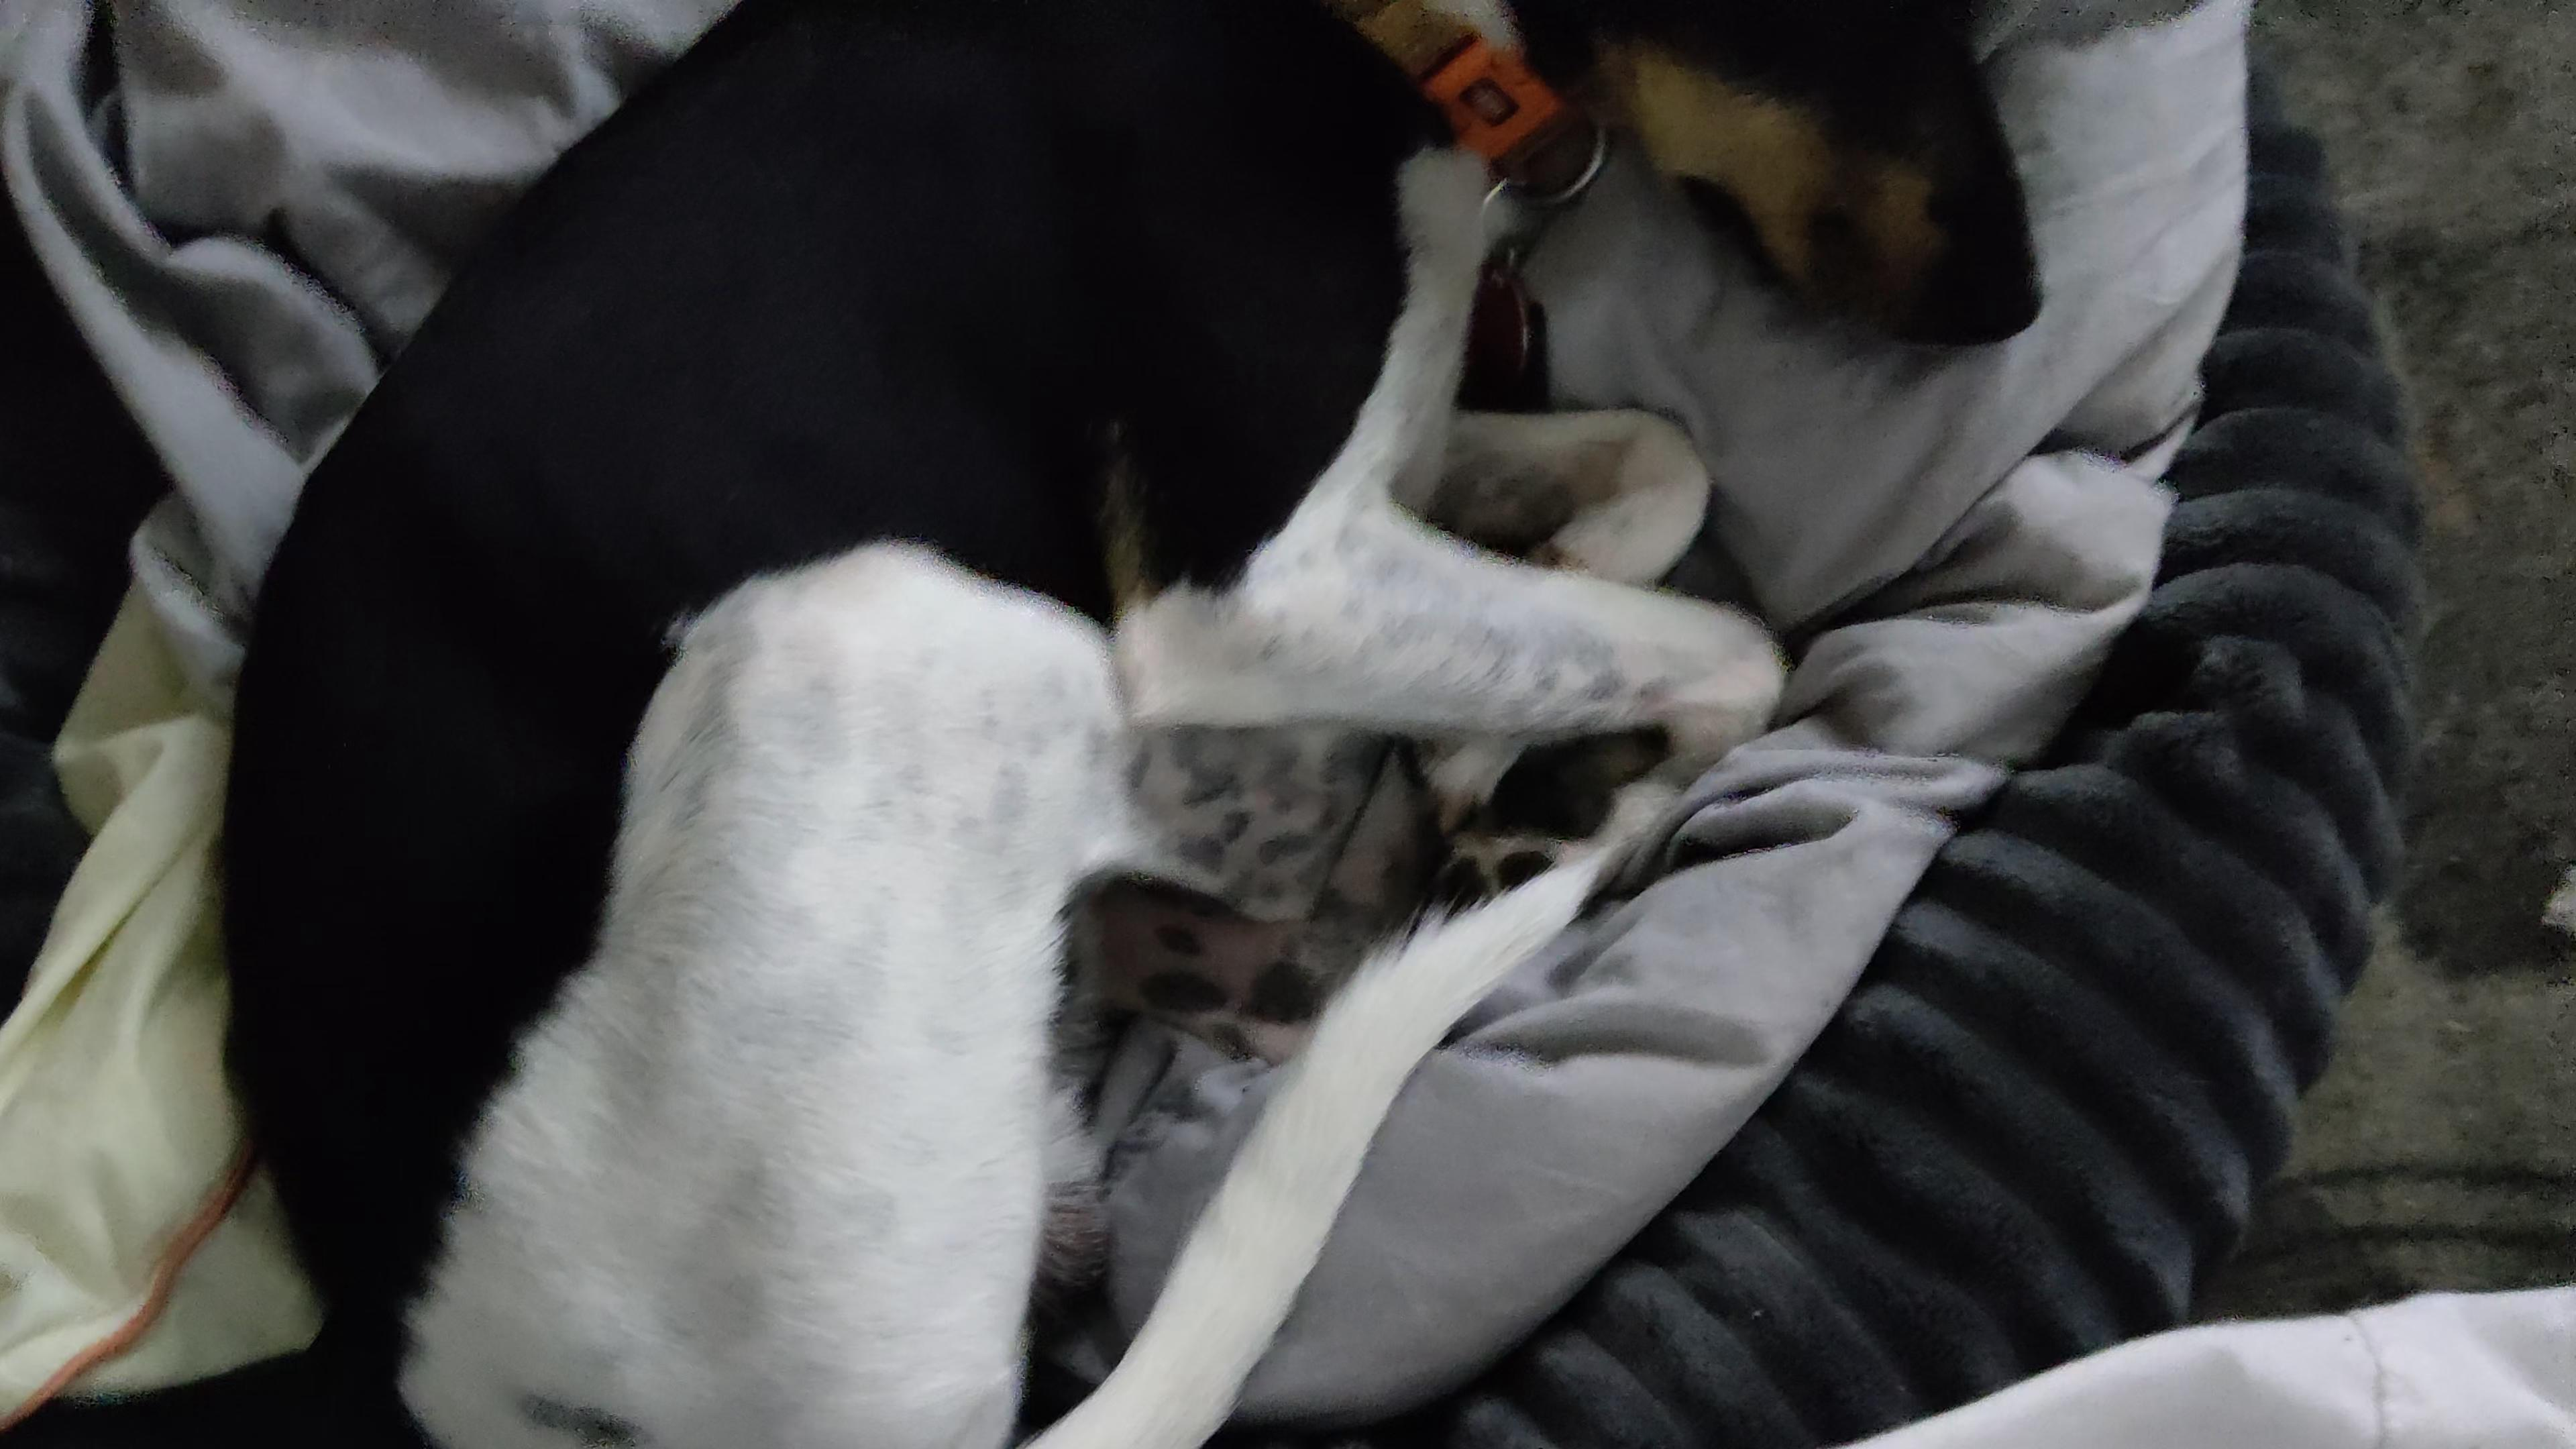Dog: (184, 0, 2098, 1449)
